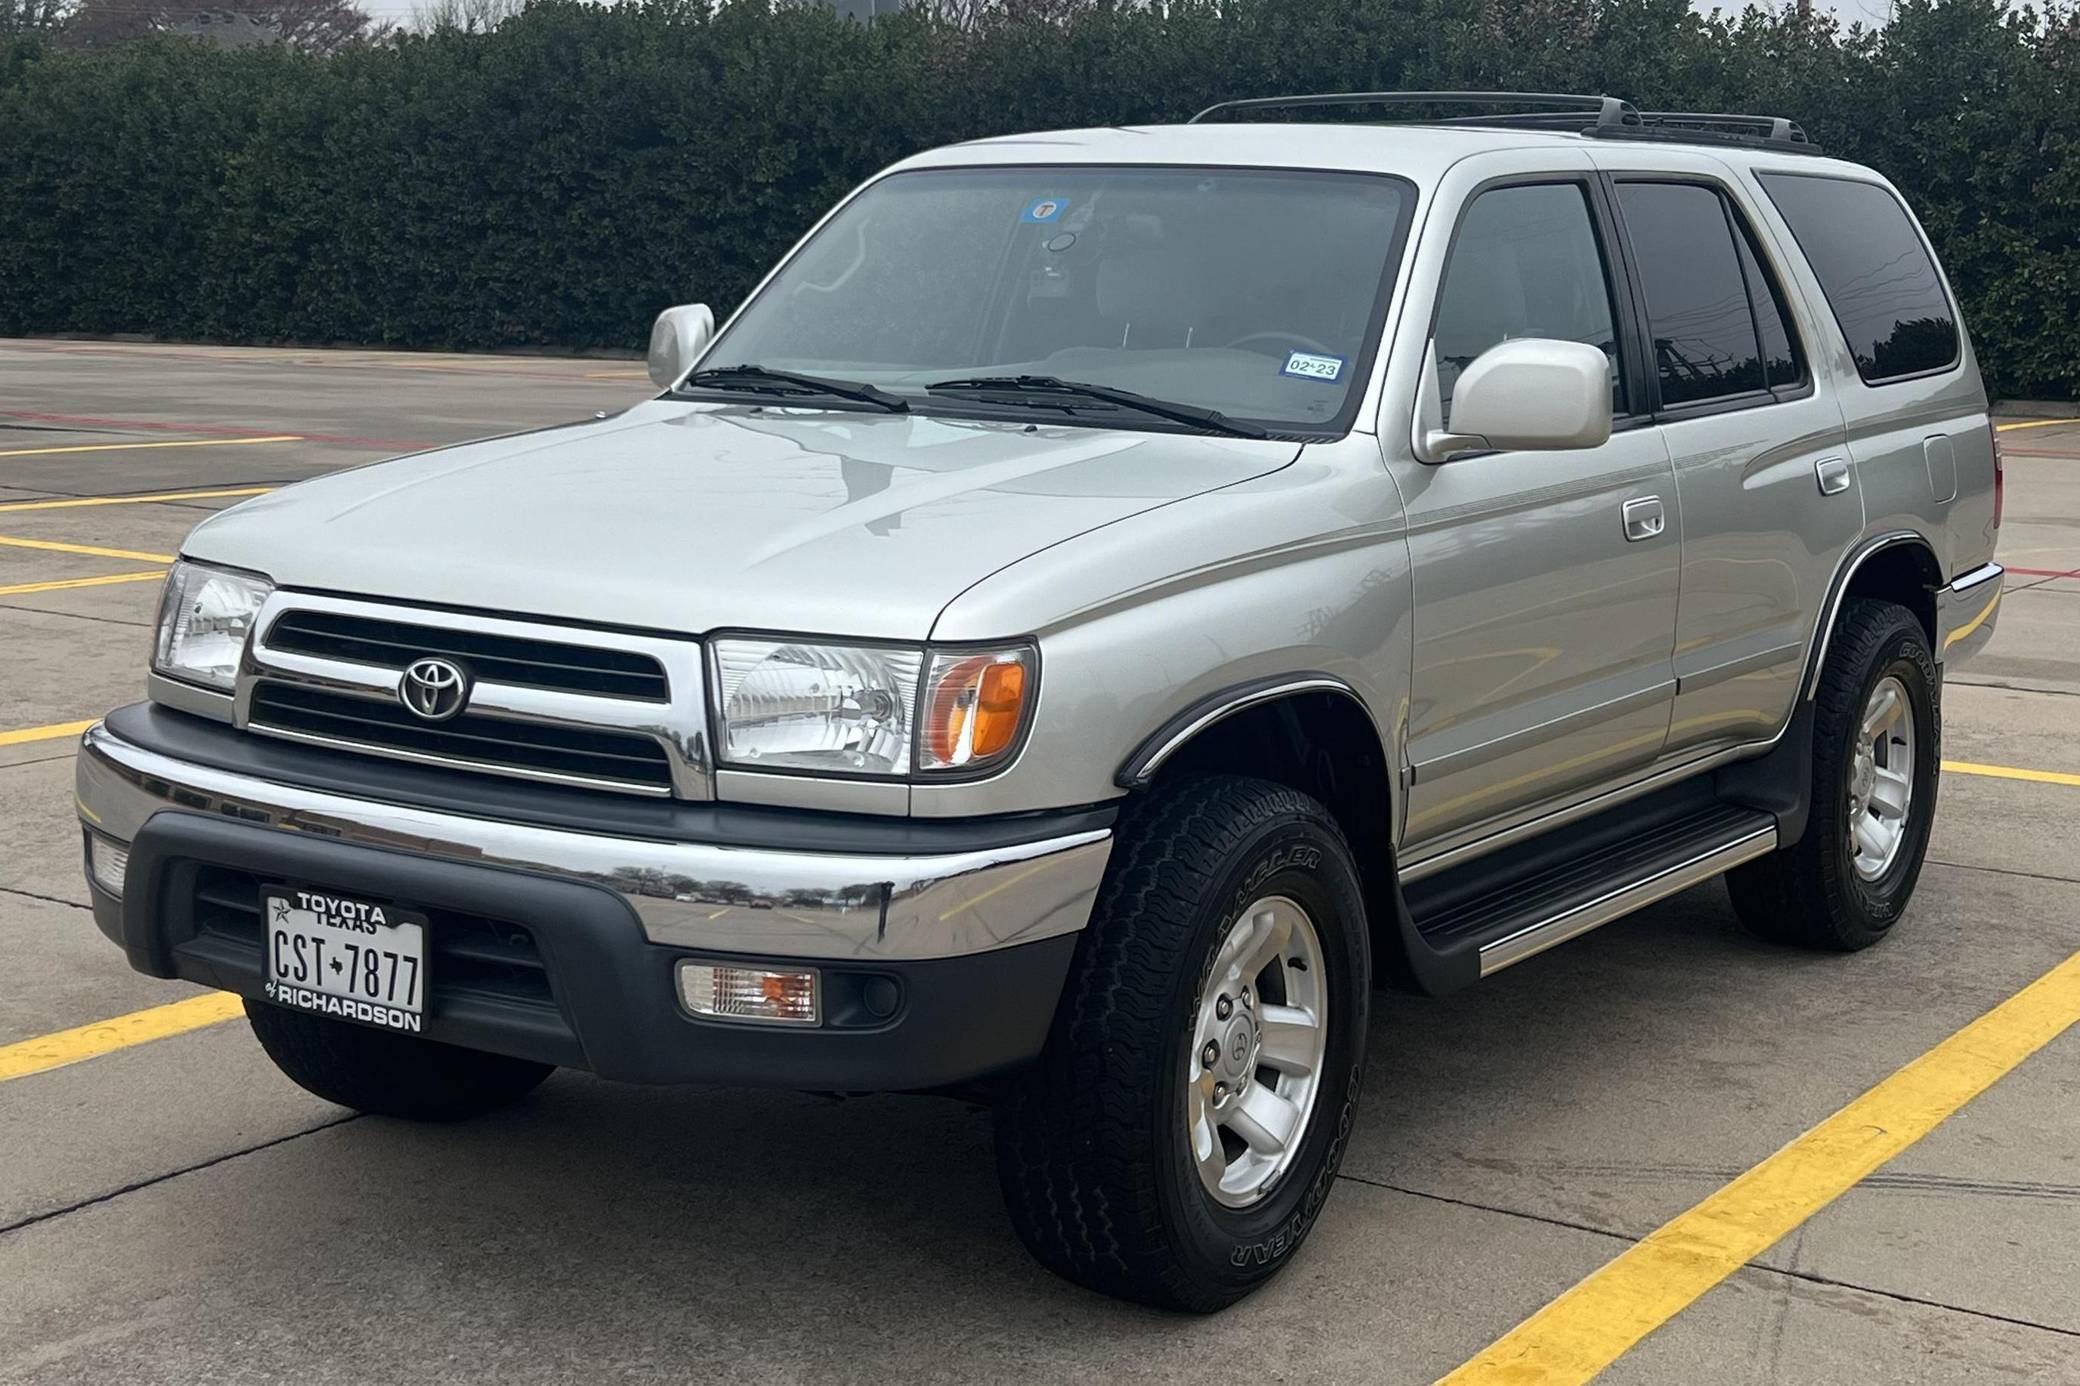car: (62, 87, 2012, 1313)
